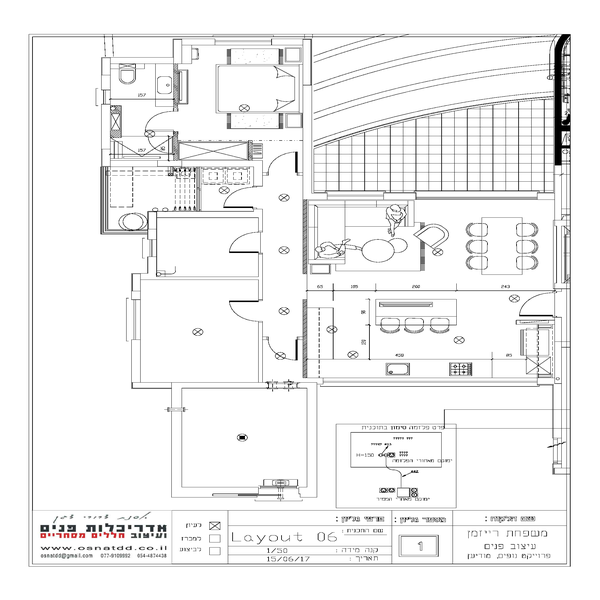door: (513, 284, 558, 320), (257, 331, 301, 363), (227, 226, 266, 262), (222, 182, 268, 212), (227, 295, 262, 329), (266, 149, 303, 176), (148, 109, 180, 135)
room: (302, 193, 567, 394), (103, 36, 310, 204), (127, 211, 306, 387), (169, 374, 328, 509)
wall: (304, 38, 320, 200), (303, 381, 322, 500), (420, 188, 542, 202), (175, 384, 185, 496), (177, 379, 268, 391), (160, 208, 265, 217), (100, 105, 113, 165), (175, 484, 213, 504), (130, 336, 142, 389), (129, 274, 149, 298), (147, 210, 160, 239)
window: (554, 230, 575, 287), (209, 34, 277, 47), (124, 297, 145, 336)
